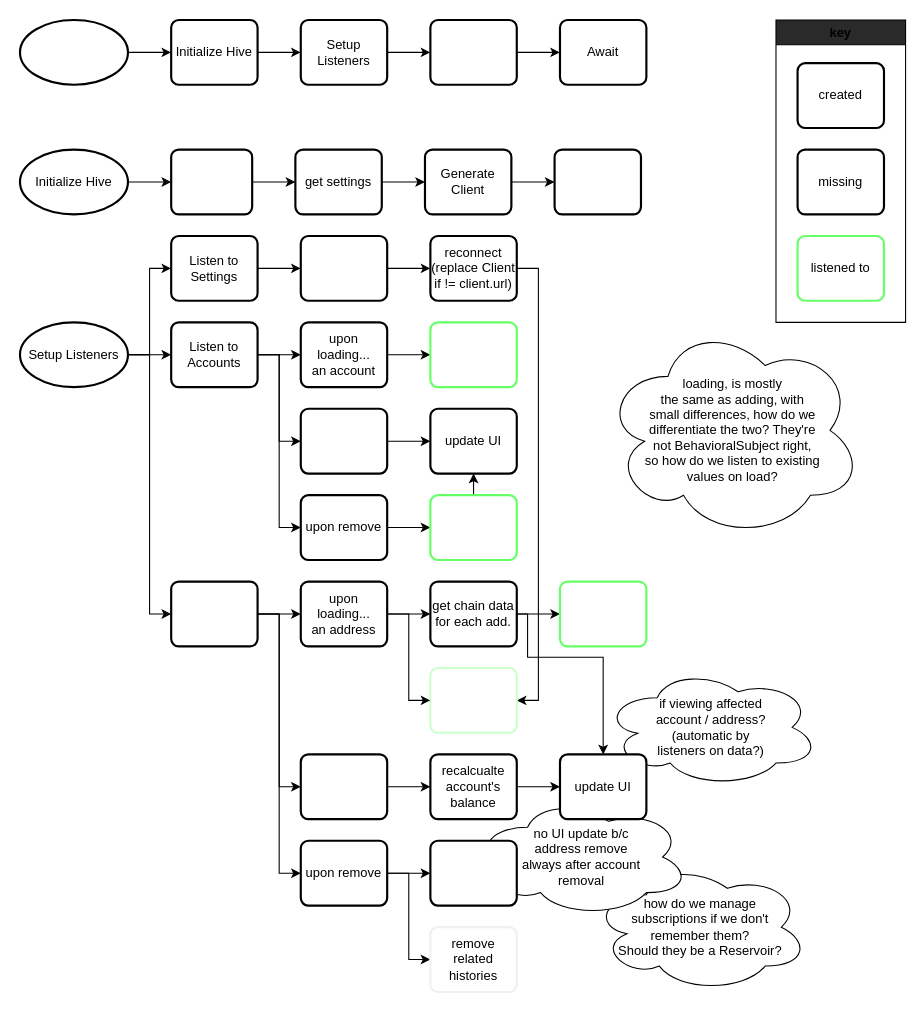
Image size: 924x1011. Some labels were removed from this diagram. Here are the shapes that lost their labels. From the top down, the centre of each, then its label:
At point 73,51: "Open App".
At point 473,51: "Load Content".
At point 211,181: "flutter init add adapters open boxes".
At point 597,181: "Generate Reservoirs".
At point 343,267: "changing or loading... electrum.url".
At point 473,354: "create address (es)".
At point 343,440: "upon change".
At point 473,527: "remove all addresses".
At point 214,613: "Listen to Addresses".
At point 602,613: "maybe derive more addresses...".
At point 473,699: "setup subscriptions for each add.".
At point 343,786: "upon change (balance)".
At point 473,872: "unsubscribe".
